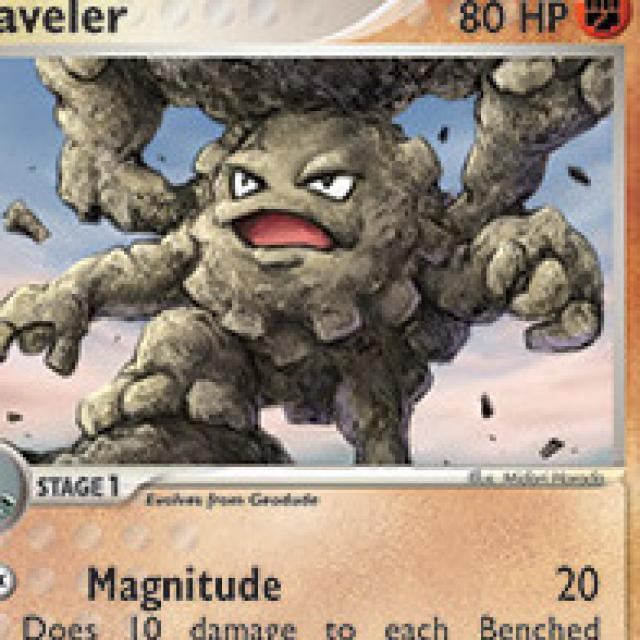Graveler: (5, 60, 604, 467)
